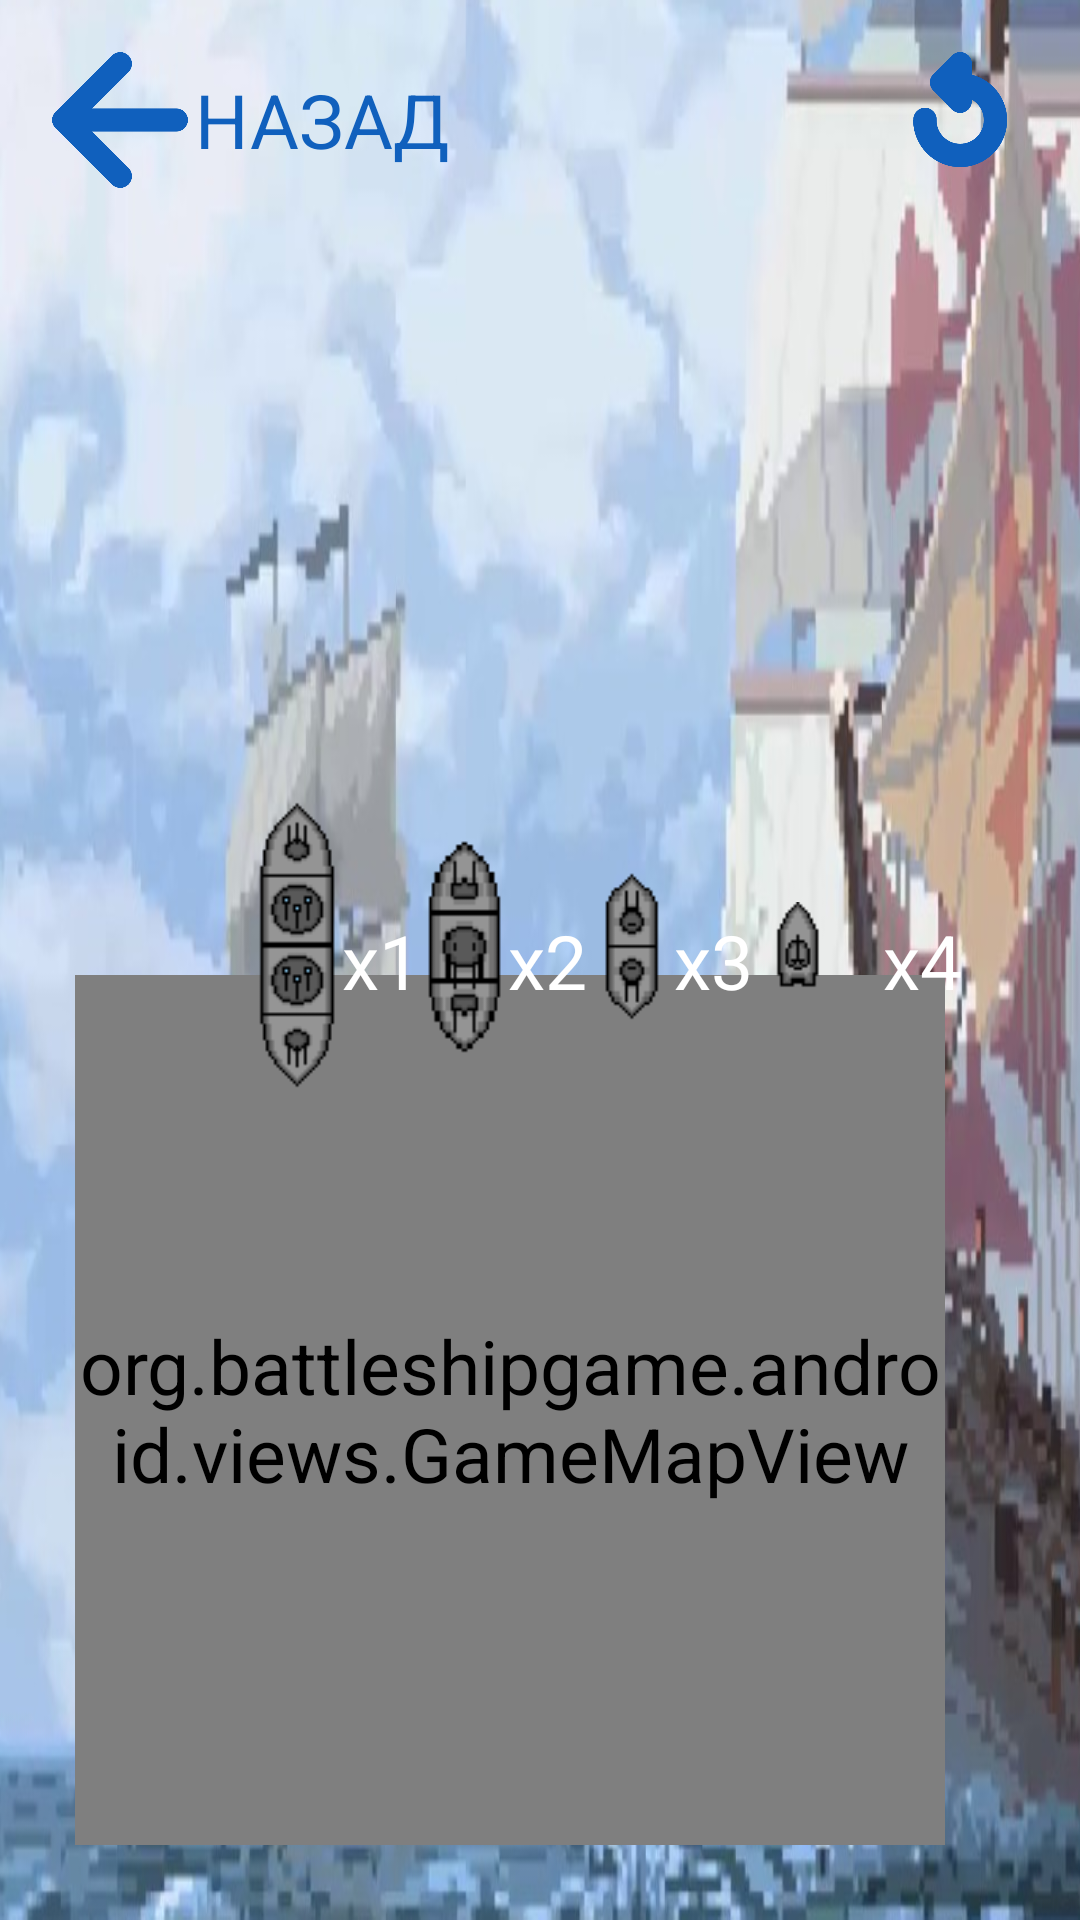

Icon click points for this 1080w x 1920h phone screenshot, format (x,y):
arrow back: (120,120)
cruiser: (464,945)
destroyer: (630,945)
rotate: (960,120)
warship: (298,945)
